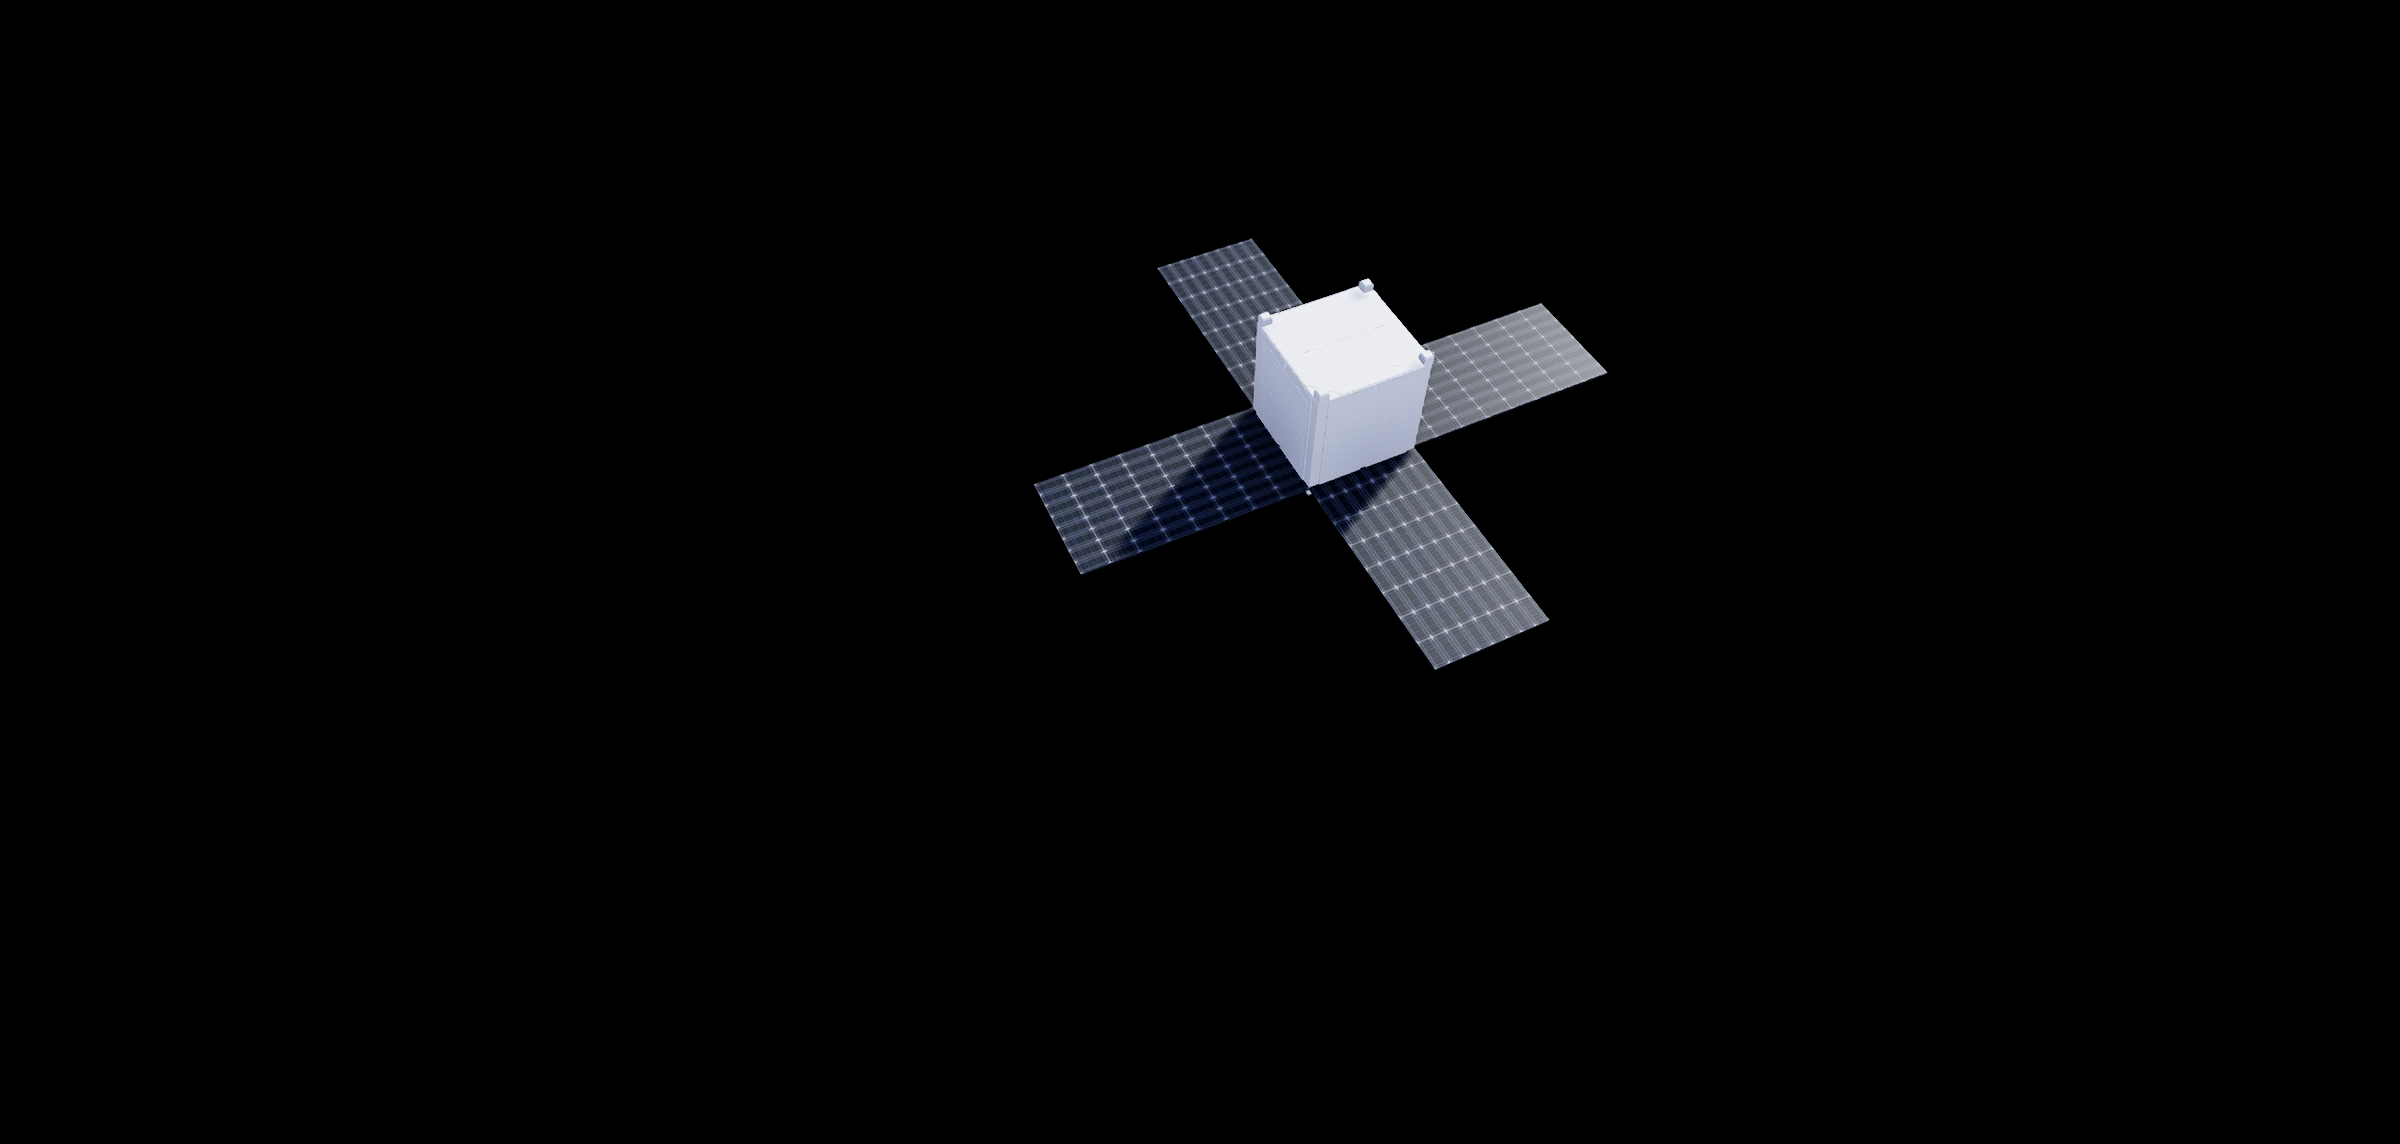satellite: (964, 207, 1661, 711)
